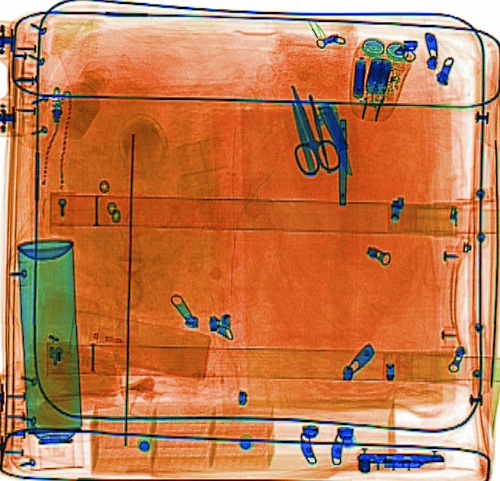pressure: (13, 237, 87, 474)
scissors: (287, 83, 343, 176)
